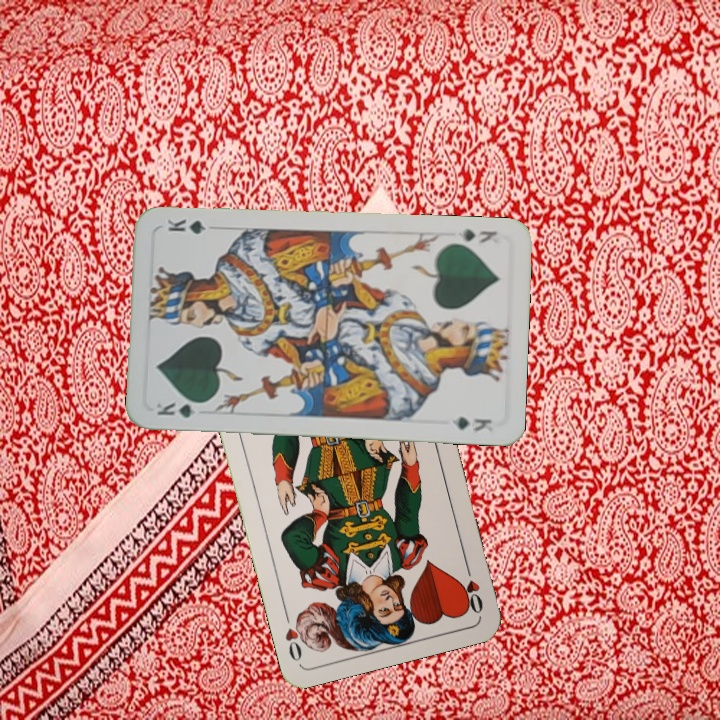GK: (152, 398, 209, 421), (458, 225, 500, 246)
HO: (457, 558, 486, 617)
